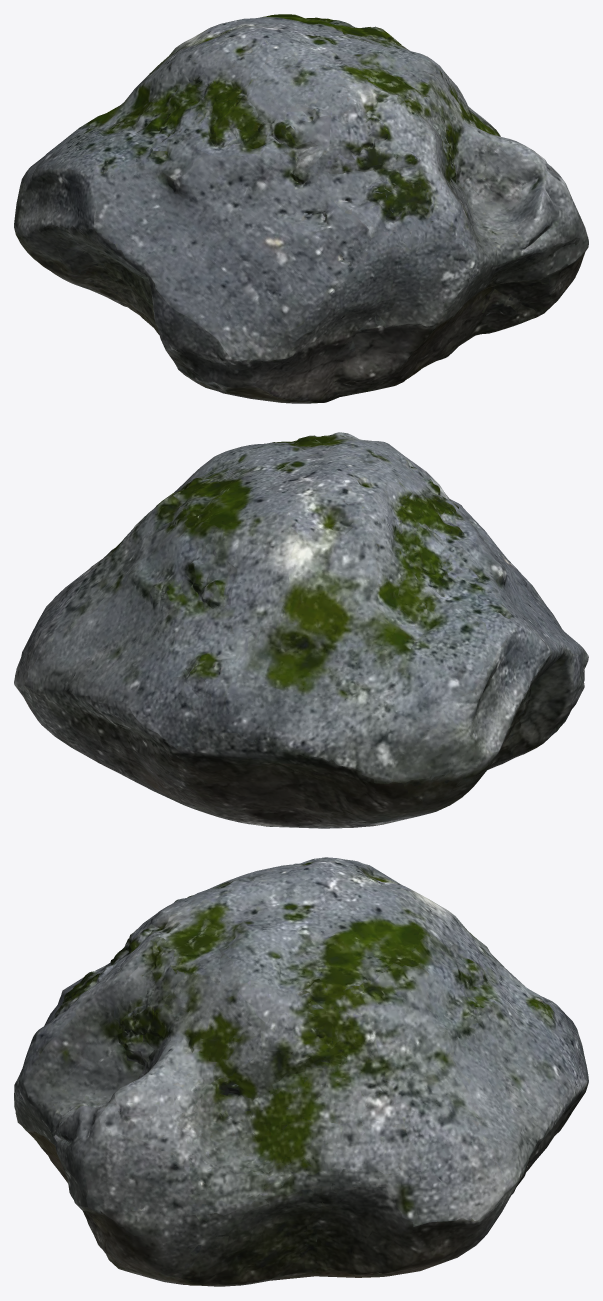
File: wet-moss-v6-lod.glb
3 views of the same model, one above another, from view 1: azimuth 30°, elevation 25°; view 2: azimuth 150°, elevation 25°; view 3: azimuth 270°, elevation 25° (orthographic). The views are drawn at different scales.
Visible parts, largest first — view 1: geometry_0; view 2: geometry_0; view 3: geometry_0.
Boxes of the visible parts, left/top/right/bottom form: geometry_0: left=14, top=14, right=588, bottom=403; geometry_0: left=14, top=432, right=588, bottom=828; geometry_0: left=14, top=857, right=588, bottom=1286.
Bounding box in the file's own units: 0.45 × 0.3021 × 0.4511.
1 material, 1 textured.
